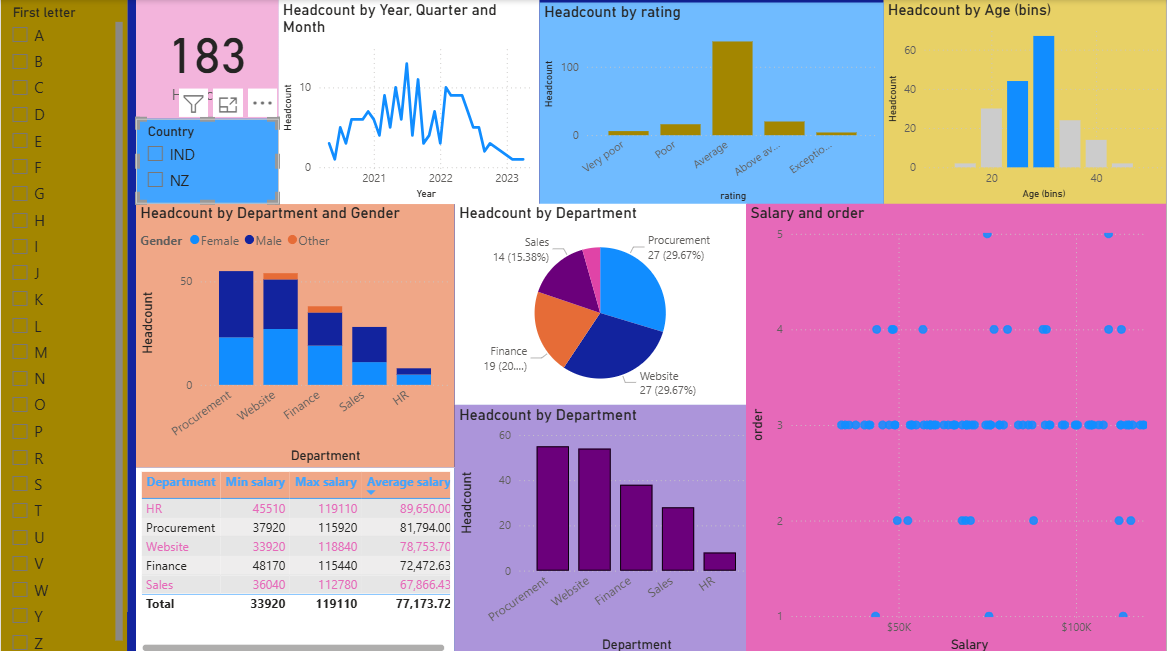

This screenshot's page, from the dashboard's own definition file:
{"tool":"powerbi","page":{"name":"Page 1","canvas":[1280,720],"ordinal":10},"visuals":[{"type":"columnChart","fields":{"Category":["Data.Department"],"Y":["Data.Headcount"]},"box":[498.1,444.6,333.4,275.8],"z":0},{"type":"columnChart","fields":{"Category":["Data.Department"],"Y":["Data.Headcount"],"Series":["Data.Gender"]},"box":[148.2,223.7,349.9,289.5],"z":1000},{"type":"clusteredColumnChart","fields":{"Y":["Data.Headcount"],"Category":["Data.Age (bins)"]},"box":[968.8,0,311.5,223.7],"z":2000},{"type":"card","fields":{"Values":["Data.Headcount"]},"box":[148.2,0,156.4,130.4],"z":3000},{"type":"slicer","fields":{"Values":["Data.First letter"]},"box":[31.6,0,107,671],"z":4000},{"type":"slicer","fields":{"Values":["Data.First letter"]},"box":[0,0,138.6,720.4],"z":5000},{"type":"lineChart","fields":{"Category":["Data.Date Joined.Variation.Date Hierarchy.Year","Data.Date Joined.Variation.Date Hierarchy.Quarter","Data.Date Joined.Variation.Date Hierarchy.Month","Data.Date Joined.Variation.Date Hierarchy.Day"],"Y":["Data.Headcount"]},"box":[304.6,0,286.8,223.7],"z":6000},{"type":"columnChart","fields":{"Category":["hr data ref.rating"],"Y":["Data.Headcount"]},"box":[591.4,2.7,377.4,223.7],"z":7000},{"type":"slicer","fields":{"Values":["Data.Country"]},"box":[148.2,130.4,156.4,93.3],"z":8000},{"type":"tableEx","fields":{"Values":["Data.Department","Data.Min salary","Data.Max salary","Data.Average salary"]},"box":[148.2,513.2,349.9,207.2],"z":9000},{"type":"pieChart","fields":{"Category":["Data.Department"],"Y":["Data.Headcount"]},"box":[498.1,223.7,319.7,220.9],"z":10000},{"type":"scatterChart","fields":{"X":["Data.Salary"],"Y":["hr data ref.order"]},"box":[817.8,223.7,462.4,496.7],"z":11000}]}

Visuals, with their boxes on the page's 1280x720 design canvas (x1, y1, x2, y2). These are canvas units, not pixel positions in the 1167x651 screenshot, which may show the page scaled, cropped or inside an application window:
columnChart - Data.Department x Data.Headcount: box(498, 445, 832, 720)
columnChart - Data.Department x Data.Headcount: box(148, 224, 498, 513)
clusteredColumnChart - Data.Headcount x Data.Age (bins): box(969, 0, 1280, 224)
card - Data.Headcount: box(148, 0, 305, 130)
slicer - Data.First letter: box(32, 0, 139, 671)
slicer - Data.First letter: box(0, 0, 139, 720)
lineChart - Data.Date Joined.Variation.Date Hierarchy.Year x Data.Date Joined.Variation.Date Hierarchy.Quarter: box(305, 0, 591, 224)
columnChart - hr data ref.rating x Data.Headcount: box(591, 3, 969, 226)
slicer - Data.Country: box(148, 130, 305, 224)
tableEx - Data.Department x Data.Min salary: box(148, 513, 498, 720)
pieChart - Data.Department x Data.Headcount: box(498, 224, 818, 445)
scatterChart - Data.Salary x hr data ref.order: box(818, 224, 1280, 720)
